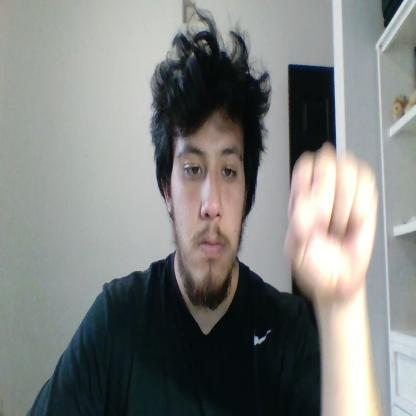S: (285, 143, 379, 298)
